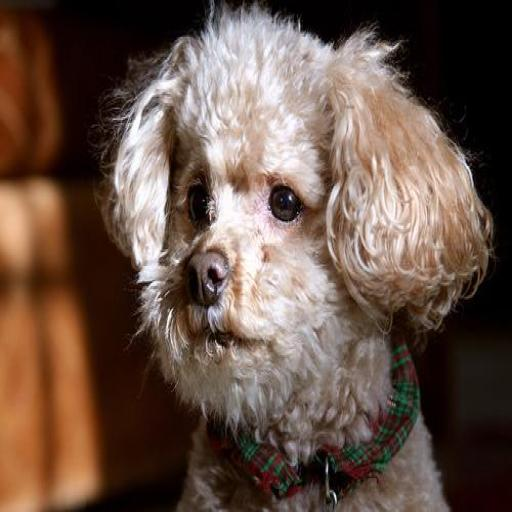dog_face: (120, 18, 476, 414)
